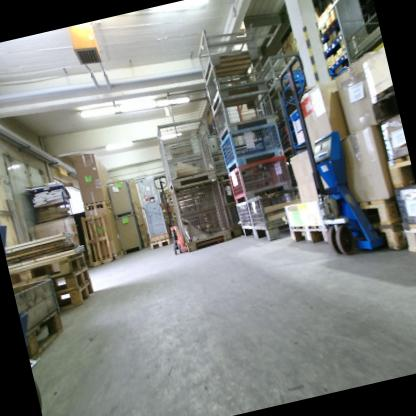pallet: (20, 305, 73, 364), (10, 253, 87, 288), (350, 195, 406, 233), (364, 219, 412, 262), (79, 211, 115, 268), (285, 215, 329, 253), (53, 281, 99, 313), (383, 148, 416, 192), (49, 267, 92, 292), (400, 219, 416, 257), (84, 197, 113, 216), (147, 236, 174, 252), (100, 247, 124, 264)
pallet_truck: (271, 40, 390, 266), (152, 159, 227, 256)
stillage: (167, 174, 233, 254), (154, 115, 219, 192), (193, 18, 264, 82), (198, 122, 265, 182), (202, 54, 271, 112), (246, 186, 308, 248), (210, 85, 278, 140), (217, 120, 285, 174), (226, 153, 294, 202), (253, 47, 312, 101), (340, 8, 386, 65), (267, 85, 304, 154), (218, 175, 246, 239), (114, 211, 145, 254), (106, 179, 136, 218), (281, 147, 306, 189), (234, 198, 256, 238)
